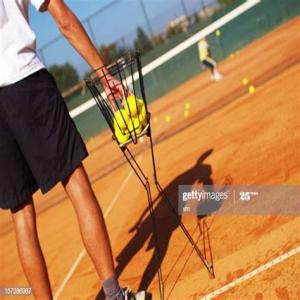Tennis: (111, 109, 130, 128), (124, 94, 140, 115)
